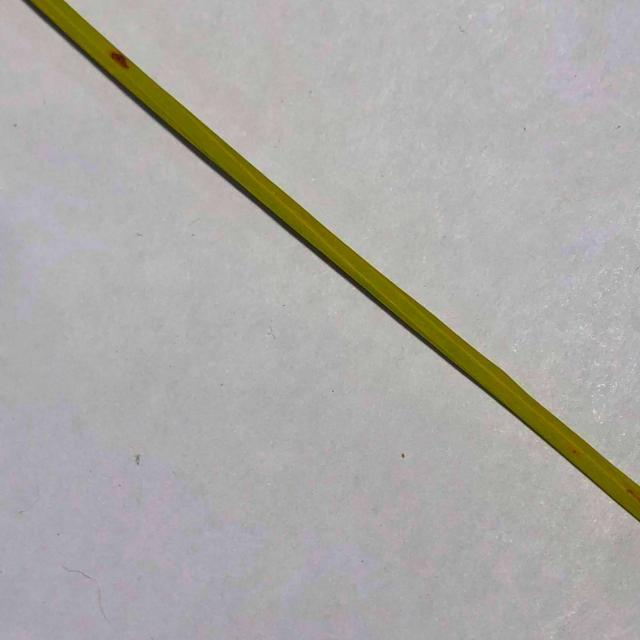Blast: (109, 48, 132, 72)
